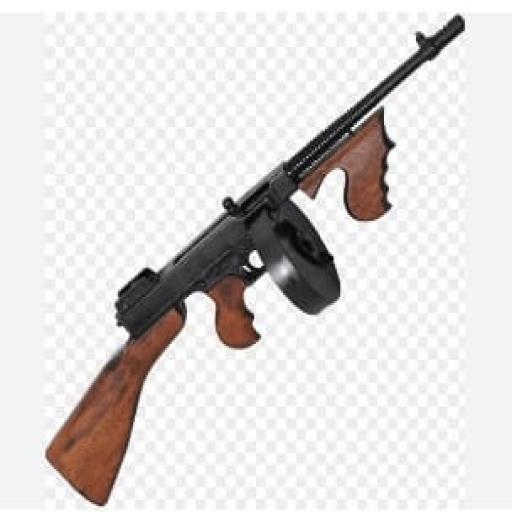Gun: (47, 14, 445, 436), (116, 47, 460, 502)
